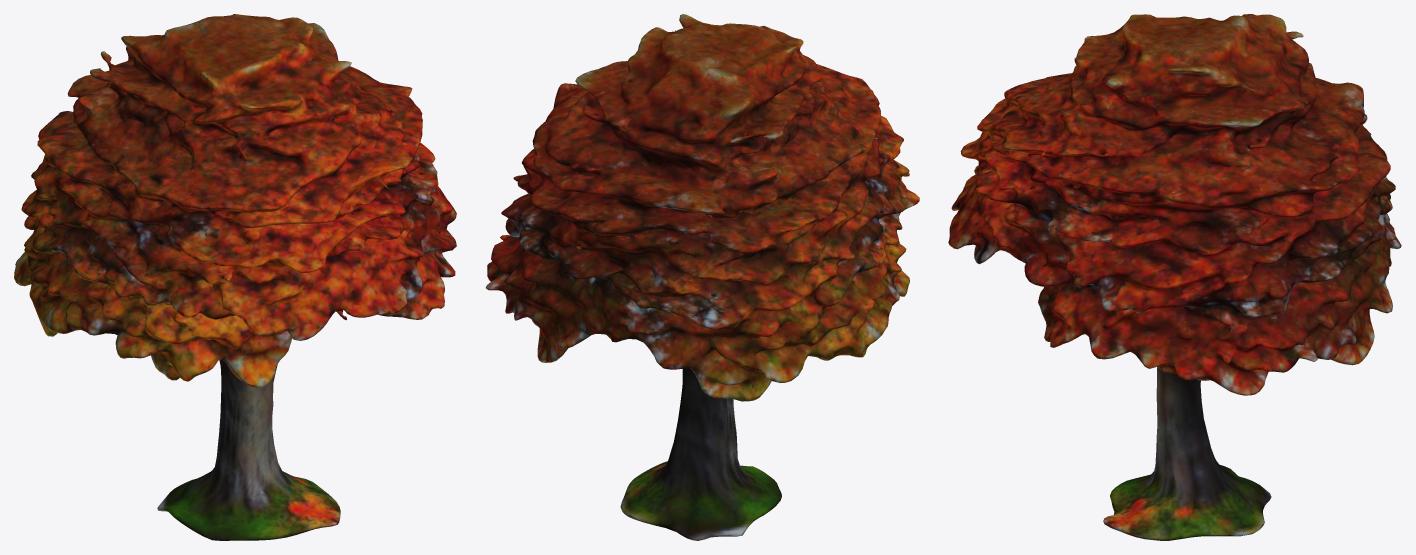
File: 09245ea7dad3_Autumn_tree_min.fbx
3 views of the same model, side by side, from view 1: azimuth 30°, elevation 25°; view 2: azimuth 150°, elevation 25°; view 3: azimuth 270°, elevation 25° (orthographic). The views are drawn at different scales.
Visible parts, largest first — view 1: high_poly; view 2: high_poly; view 3: high_poly.
Part boxes in pixels (x1=…): high_poly: x1=14, y1=14, x2=456, y2=540; high_poly: x1=485, y1=14, x2=919, y2=540; high_poly: x1=948, y1=14, x2=1401, y2=540.
Size of the model in its own units: 83.1 by 100 by 86.1.
